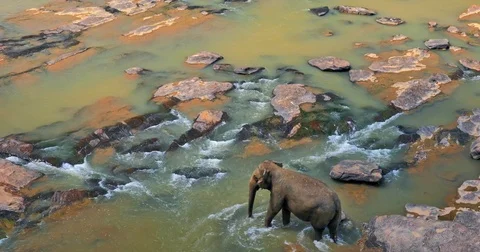Adult Elephant: (222, 159, 359, 245)
